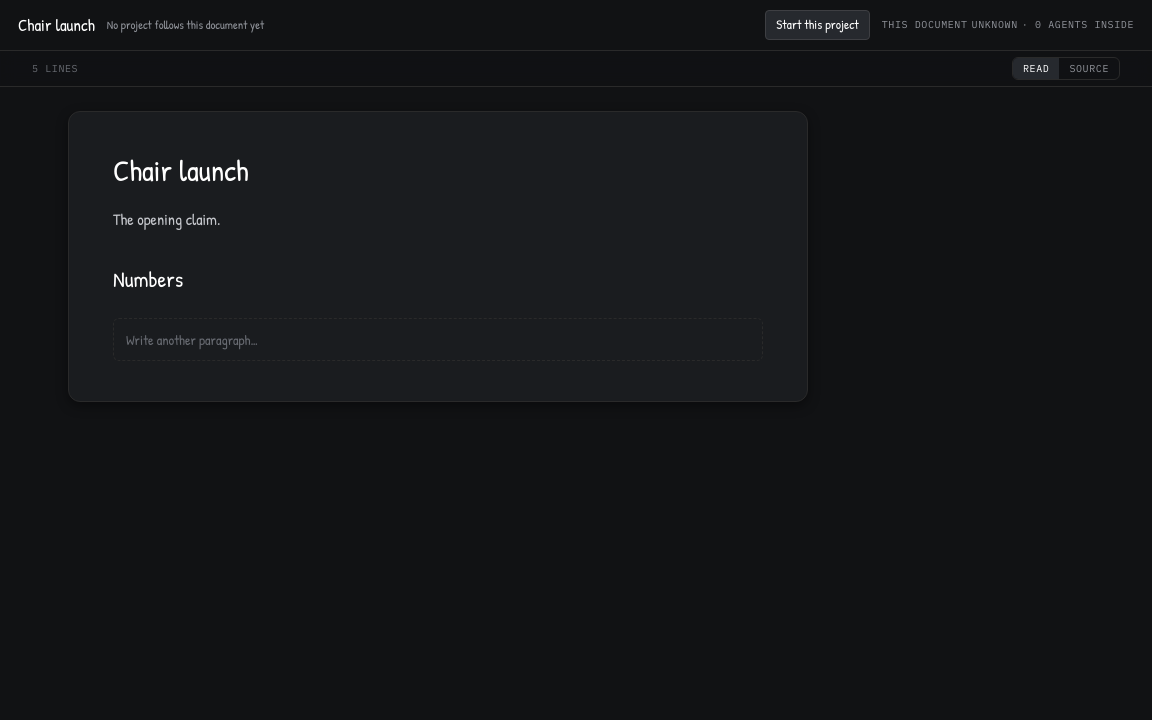
Scenario: a save that does not land › a network failure is reported, not swallowed
Click the element with test id "block-3" at (167, 219), box [113,208,220,230]
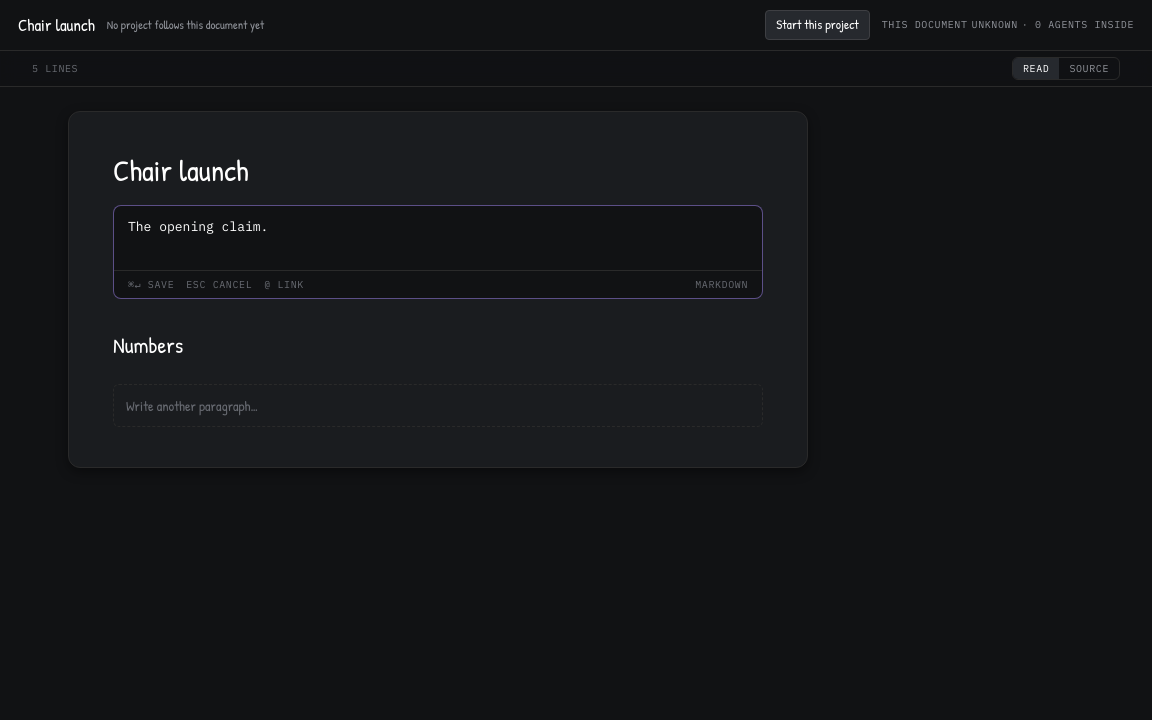
Replace the text in the text box with test id "block-editor" with "A shorter claim." at (438, 238), box [114,206,762,270]
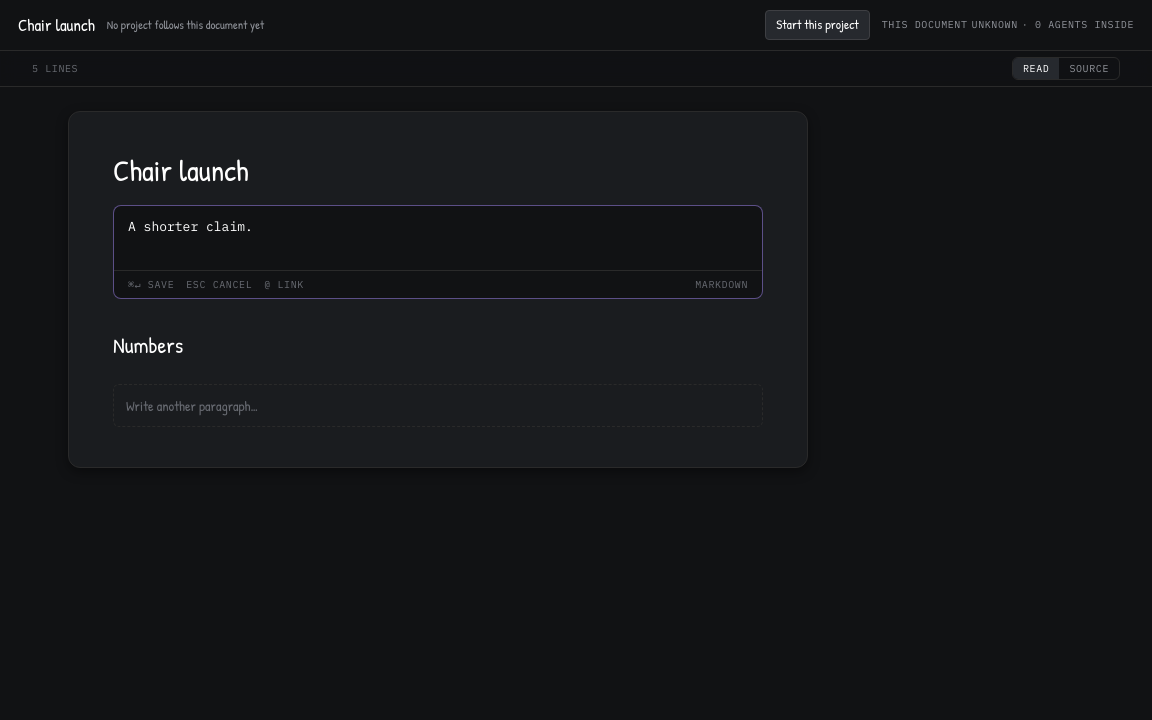
Press Enter in the text box with test id "block-editor", box [114,206,762,270]
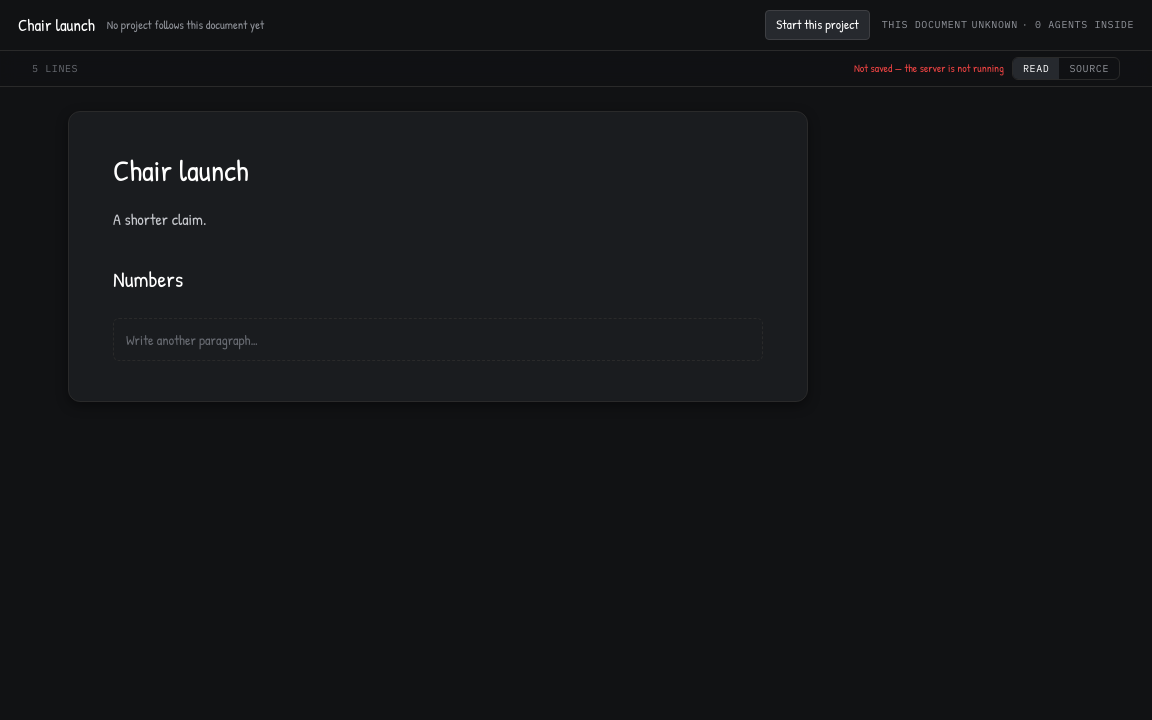
Check: the text "Not saved — the server is not running" is shown, box [854,60,1004,76]
Check: the text with test id "save-error" shows "the server is not running", box [904,61,1004,75]
